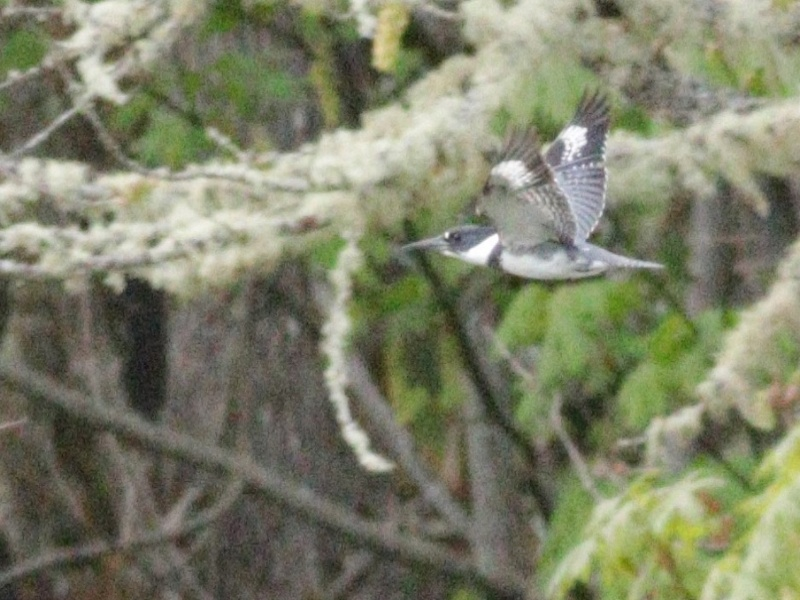kingfisher: (397, 89, 669, 286)
